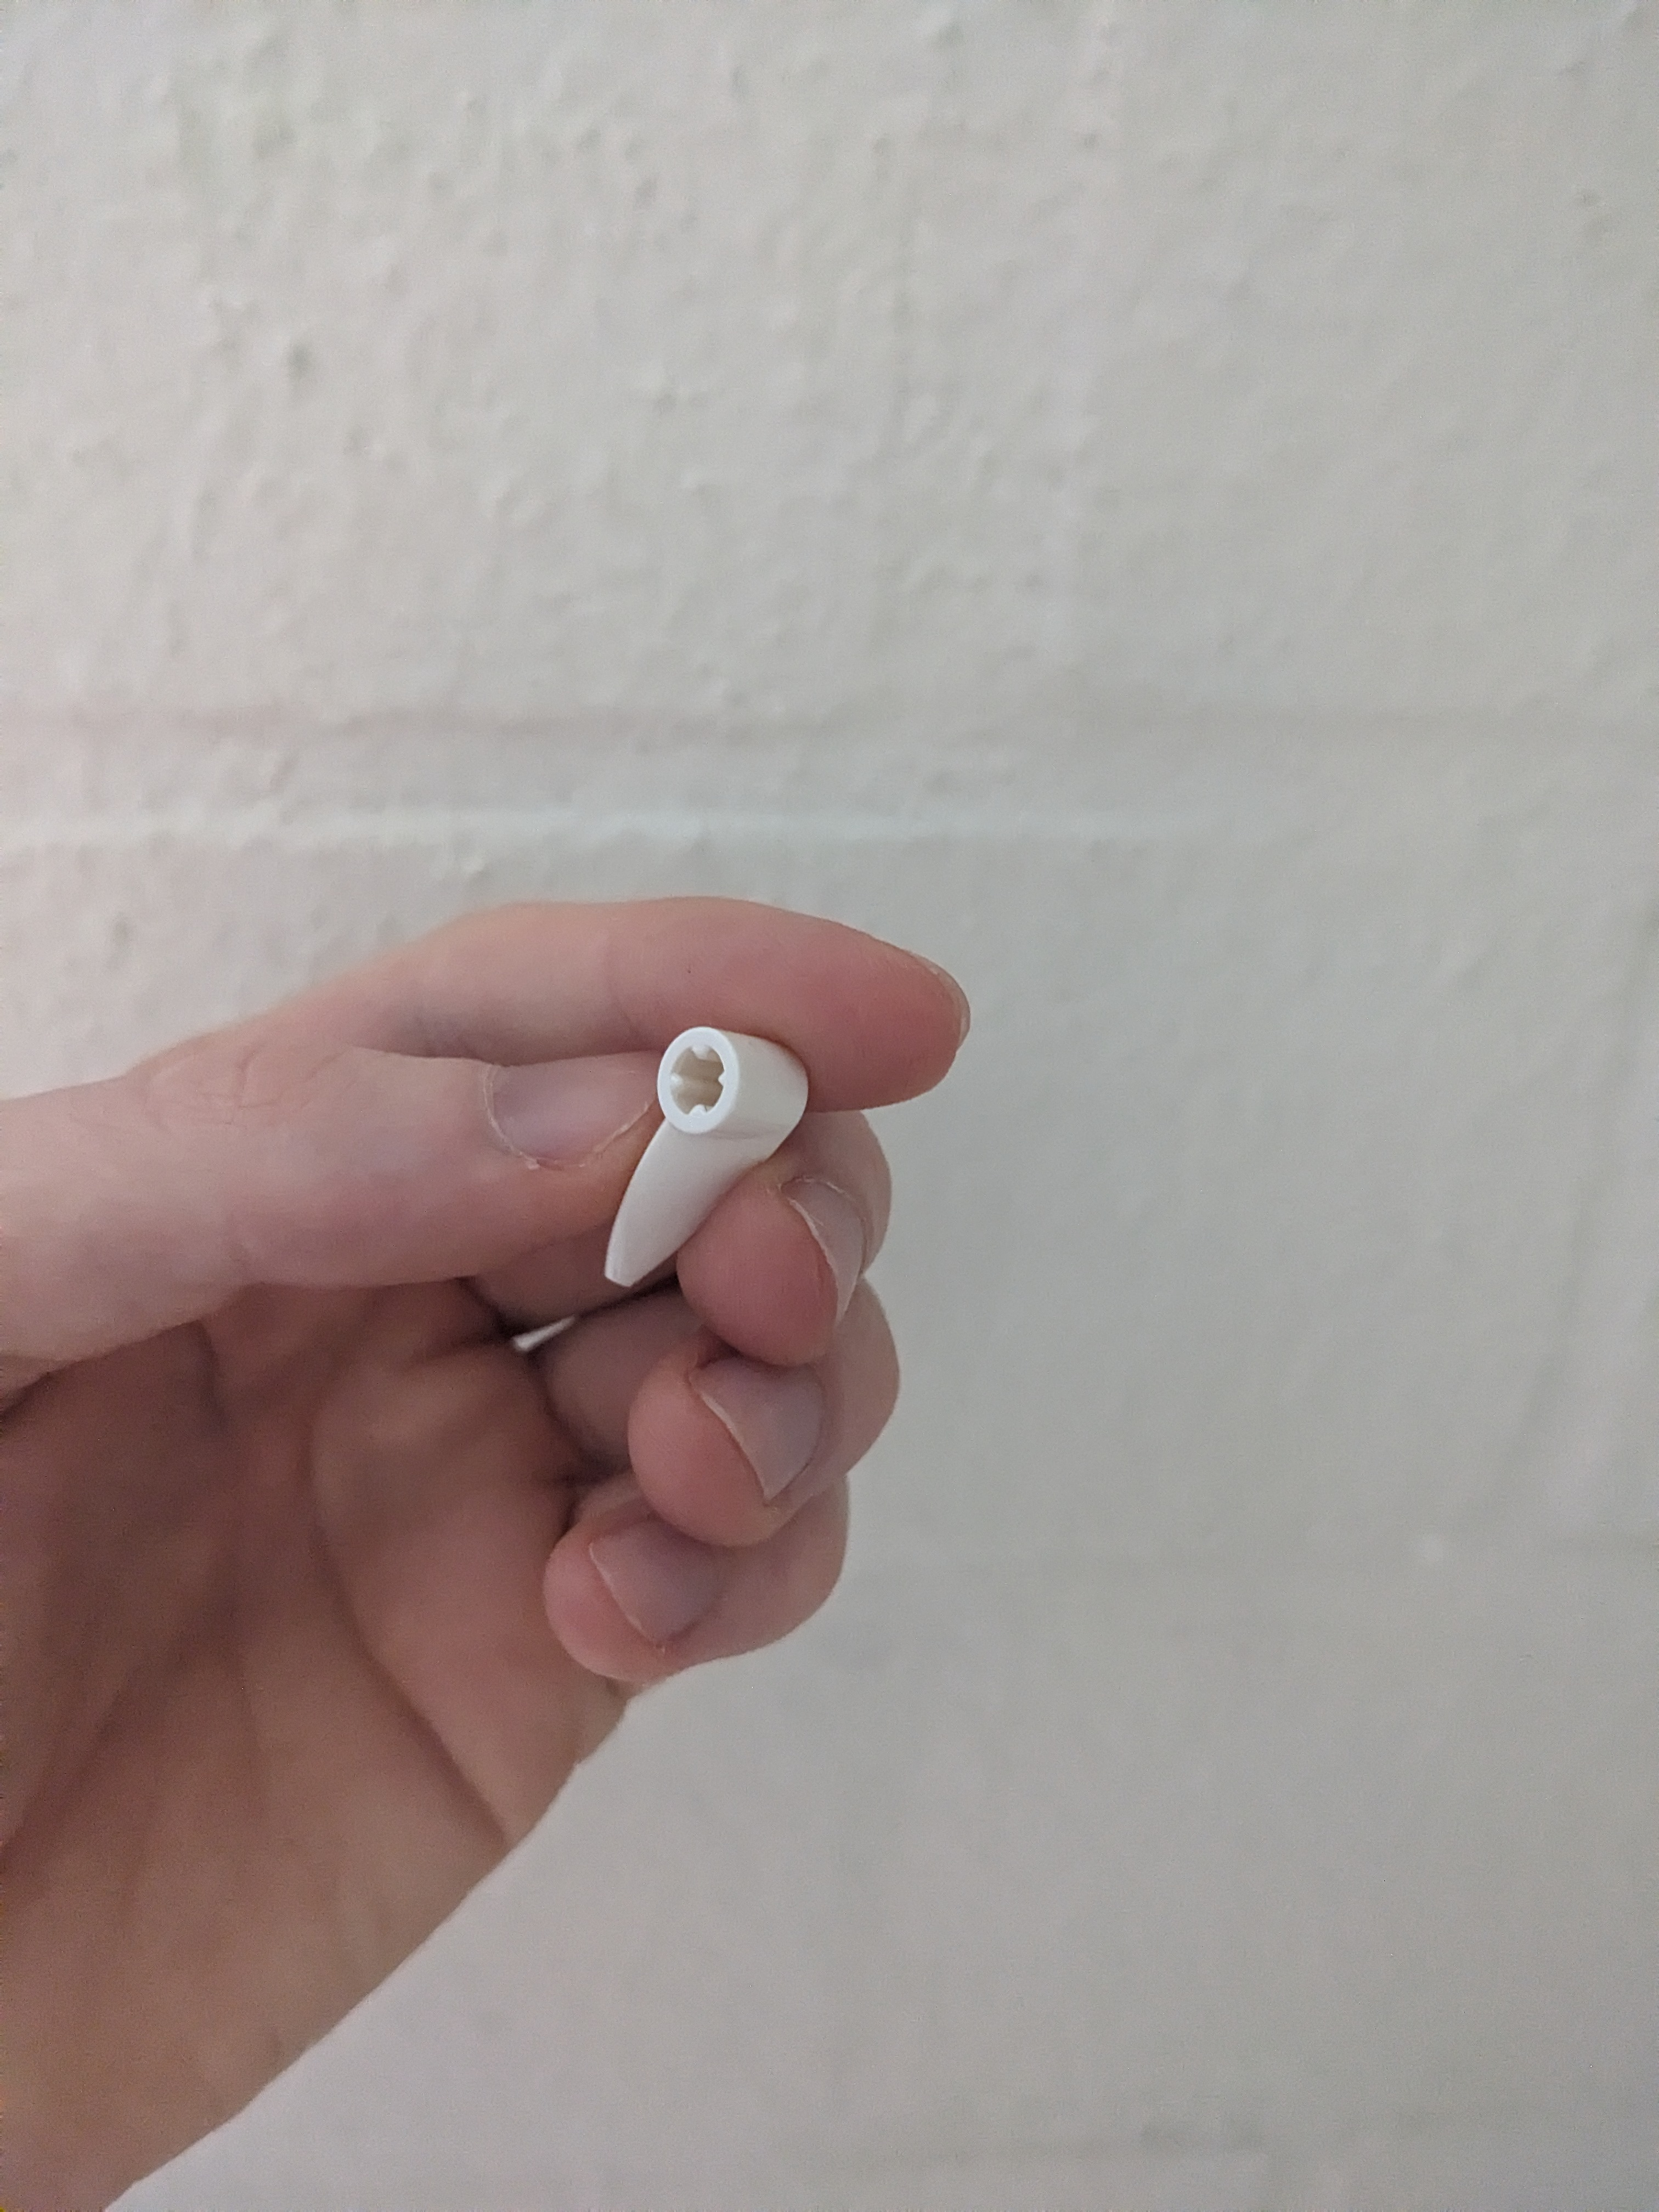Kappe: (572, 1001, 824, 1313)
